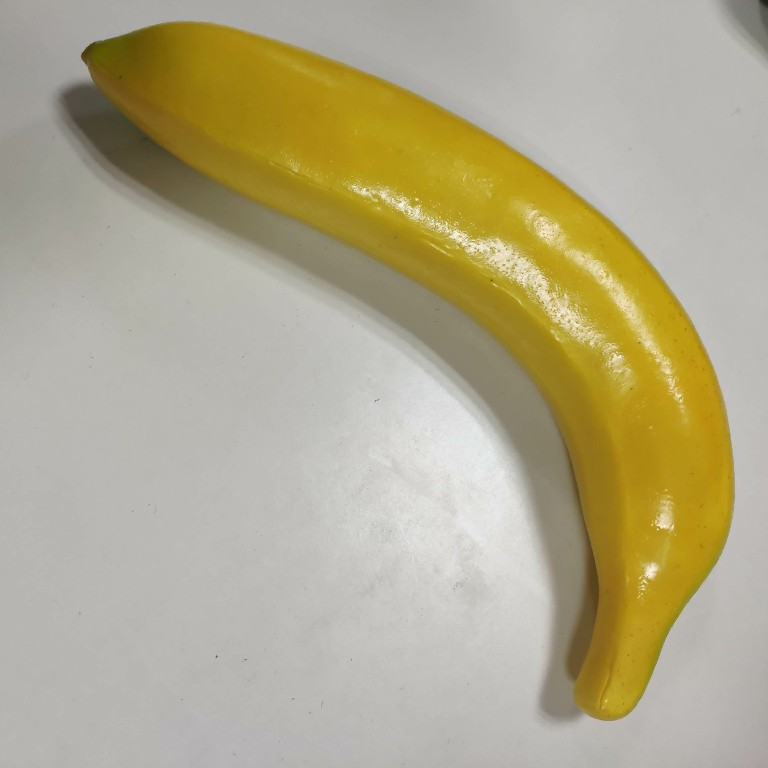fruit_banana: (78, 17, 748, 731)
